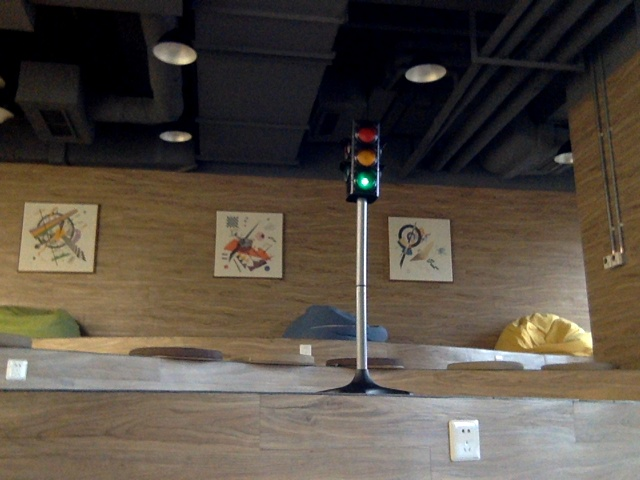green: (349, 132, 379, 192)
